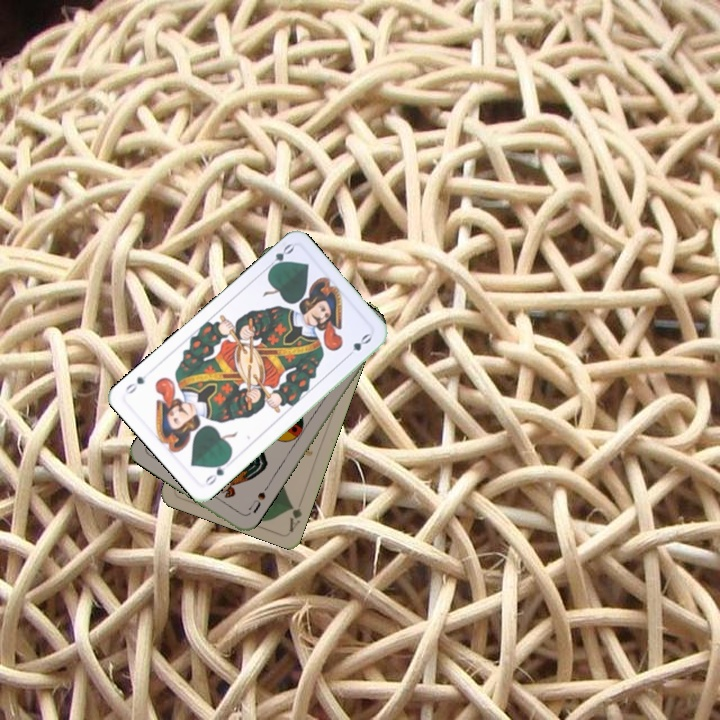GA: (285, 501, 305, 534)
GO: (262, 240, 297, 274), (200, 455, 234, 488)
SU: (243, 488, 268, 518)
